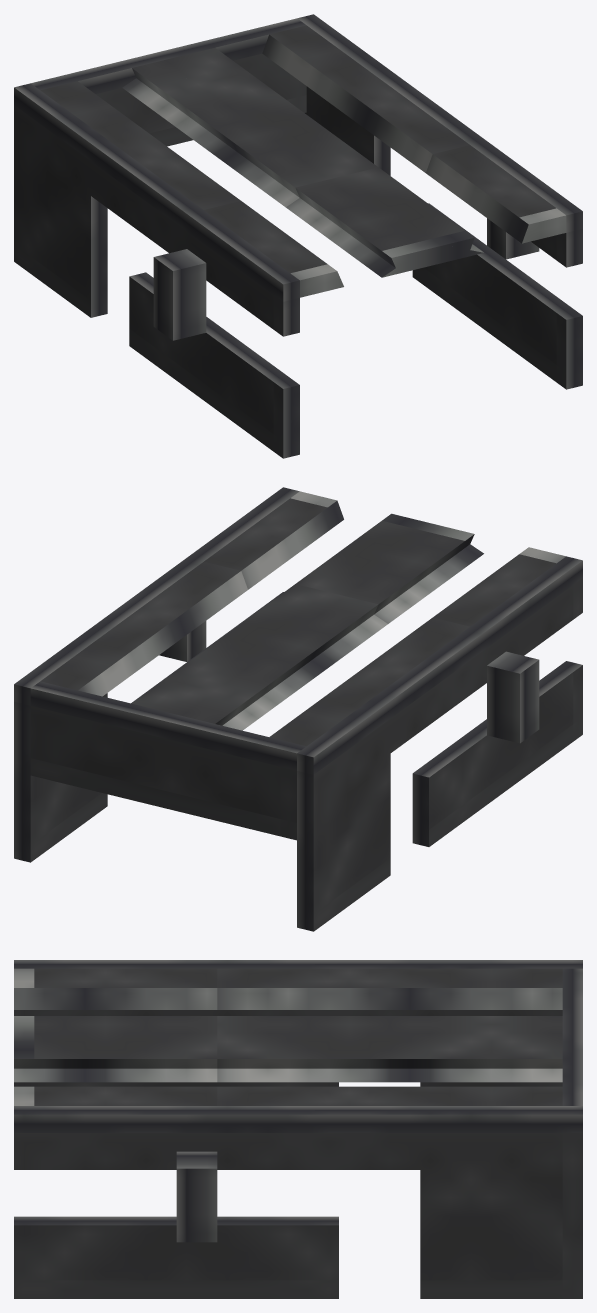
Rendered from modern_rear_hood.obj.
The picture shows the model from 3 angles, top to bottom: view 1: azimuth 30°, elevation 25°; view 2: azimuth 150°, elevation 25°; view 3: azimuth 270°, elevation 25°; orthographic projection. The views are drawn at different scales.
Parts seen in each view (by area): view 1: group_2_hood_sheet, group_0_hood_rim, group_4_hood_recess_seat, group_1_hood_sheet, group_3_hood_saddle; view 2: group_2_hood_sheet, group_0_hood_rim, group_4_hood_recess_seat, group_1_hood_sheet, group_3_hood_saddle; view 3: group_2_hood_sheet, group_4_hood_recess_seat, group_0_hood_rim, group_3_hood_saddle, group_1_hood_sheet.
Boxes of the visible parts, <box> form: group_2_hood_sheet: <box>14,25,566,458</box>; group_0_hood_rim: <box>14,14,582,301</box>; group_4_hood_recess_seat: <box>122,34,566,297</box>; group_1_hood_sheet: <box>91,135,582,458</box>; group_3_hood_saddle: <box>153,218,539,340</box>; group_2_hood_sheet: <box>30,498,582,931</box>; group_0_hood_rim: <box>14,487,582,774</box>; group_4_hood_recess_seat: <box>78,491,565,730</box>; group_1_hood_sheet: <box>14,592,582,931</box>; group_3_hood_saddle: <box>159,621,539,743</box>; group_2_hood_sheet: <box>14,968,582,1298</box>; group_4_hood_recess_seat: <box>14,968,562,1105</box>; group_0_hood_rim: <box>14,960,582,1132</box>; group_3_hood_saddle: <box>176,1151,217,1242</box>; group_1_hood_sheet: <box>14,1216,338,1225</box>.
Bounding box in the file's own units: 1.38 × 0.625 × 1.75.
